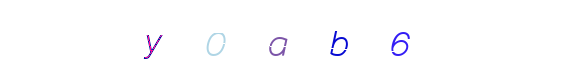0: (221, 0, 301, 80)
6: (297, 0, 377, 80)
A: (252, 0, 332, 80)
B: (259, 0, 339, 80)
Y: (111, 0, 191, 80)
